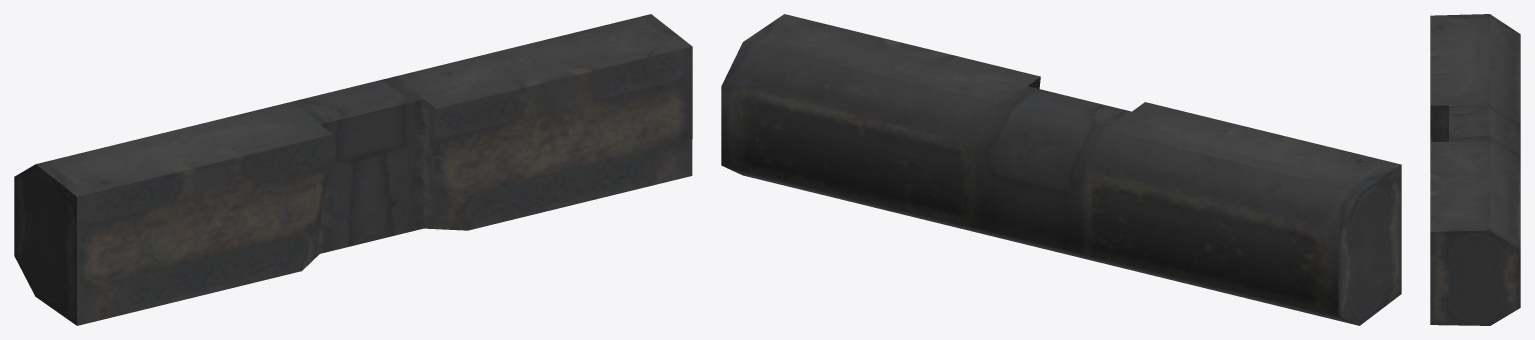
3 views of the same model, side by side, from view 1: azimuth 30°, elevation 25°; view 2: azimuth 150°, elevation 25°; view 3: azimuth 270°, elevation 25° (orthographic). The views are drawn at different scales.
Visible parts, largest first — view 1: set_0_group_0; view 2: set_0_group_0; view 3: set_0_group_0.
Part boxes in pixels (box(x1,y1,x2,y2)): set_0_group_0: box(14, 14, 692, 325); set_0_group_0: box(721, 14, 1401, 325); set_0_group_0: box(1430, 14, 1520, 325).
Size of the model in its own units: 0.5711 by 0.1177 by 0.1009.
Materials: 1 (1 with a texture image).
